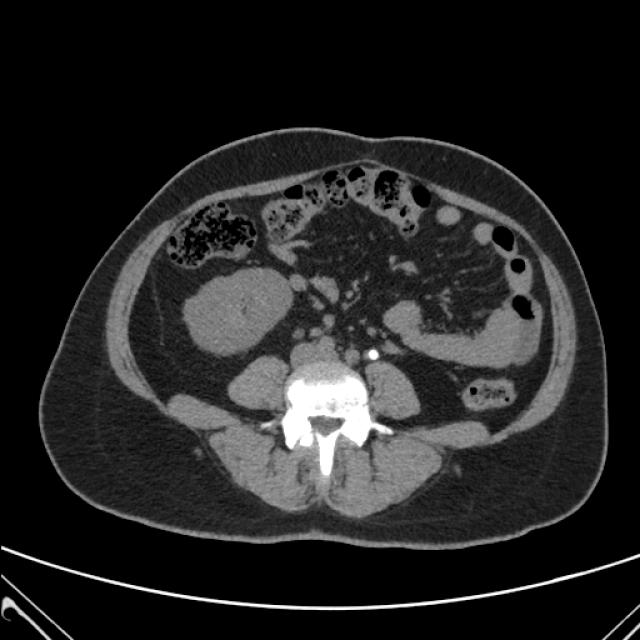kidney: (178, 262, 312, 362), (356, 342, 423, 426)
stone: (365, 344, 383, 363)
